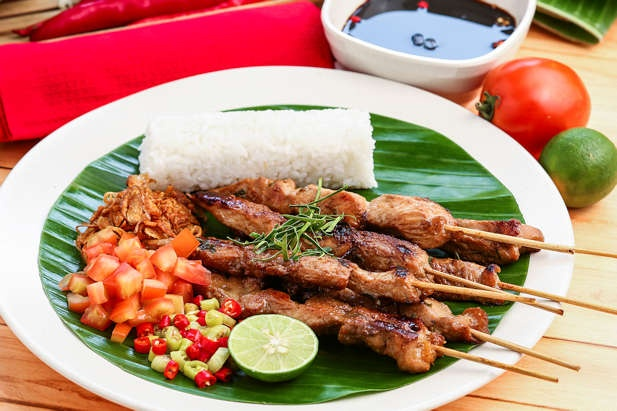sate: (207, 184, 614, 309)
